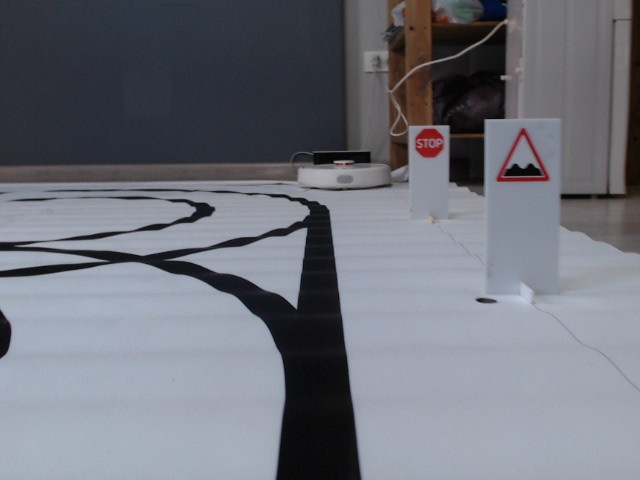Nerov: (494, 128, 551, 188)
Stop: (415, 130, 446, 158)
